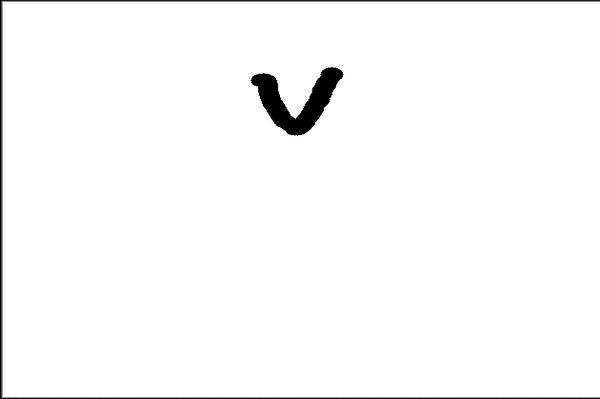V: (243, 59, 349, 139)
